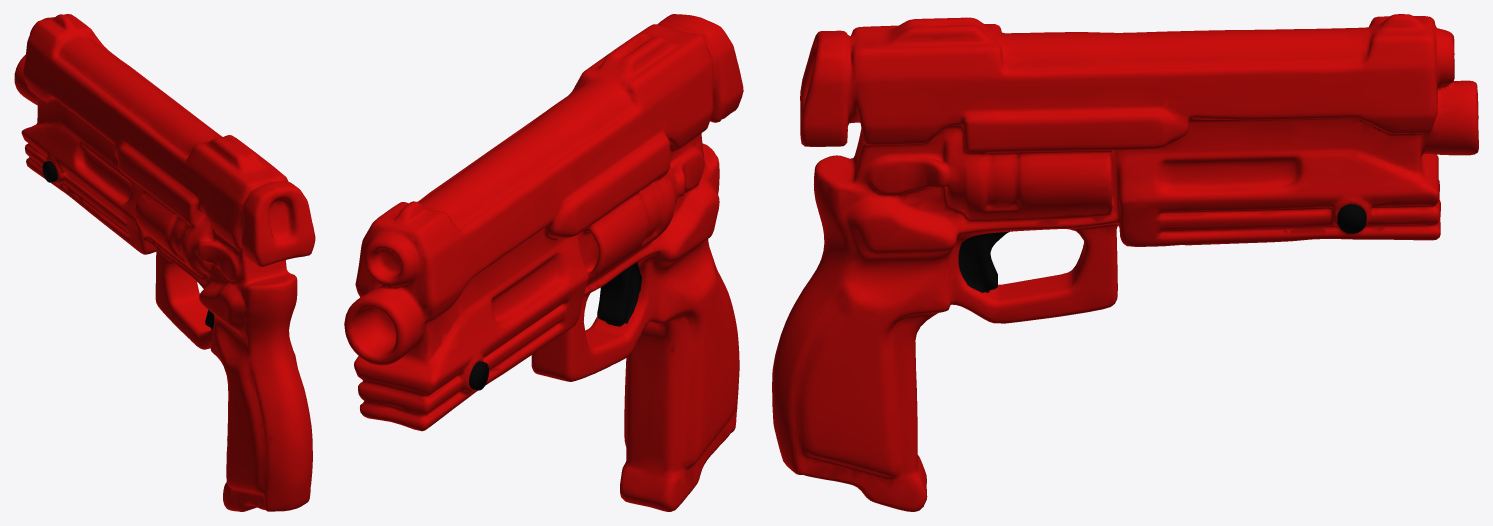
The model's file is VRGameGun.obj.
3 renders of one model, left to right at view 1: azimuth 30°, elevation 25°; view 2: azimuth 150°, elevation 25°; view 3: azimuth 270°, elevation 25°, orthographic. The views are drawn at different scales.
Visible parts, largest first — view 1: gun, trigger; view 2: gun, trigger; view 3: gun, trigger.
Part boxes in pixels (<box>): gun: <box>14,14,315,511</box>; trigger: <box>42,161,214,329</box>; gun: <box>344,14,743,511</box>; trigger: <box>469,262,641,390</box>; gun: <box>772,14,1478,511</box>; trigger: <box>958,204,1366,292</box>.
Bounding box in the file's own units: 0.044 × 0.1933 × 0.2549.
